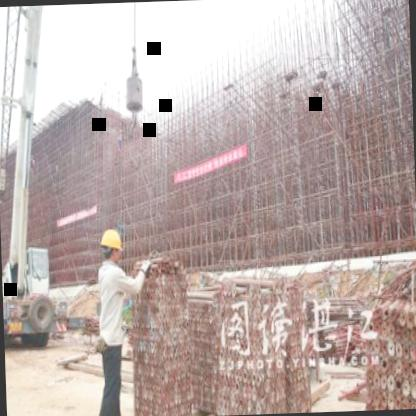helmet: (100, 226, 124, 264)
